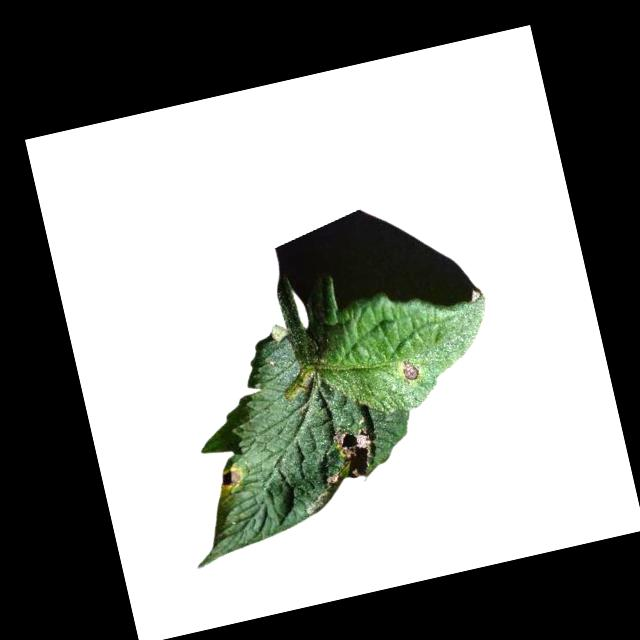Early_blight: (316, 423, 380, 489), (216, 465, 245, 493), (400, 358, 420, 383)
